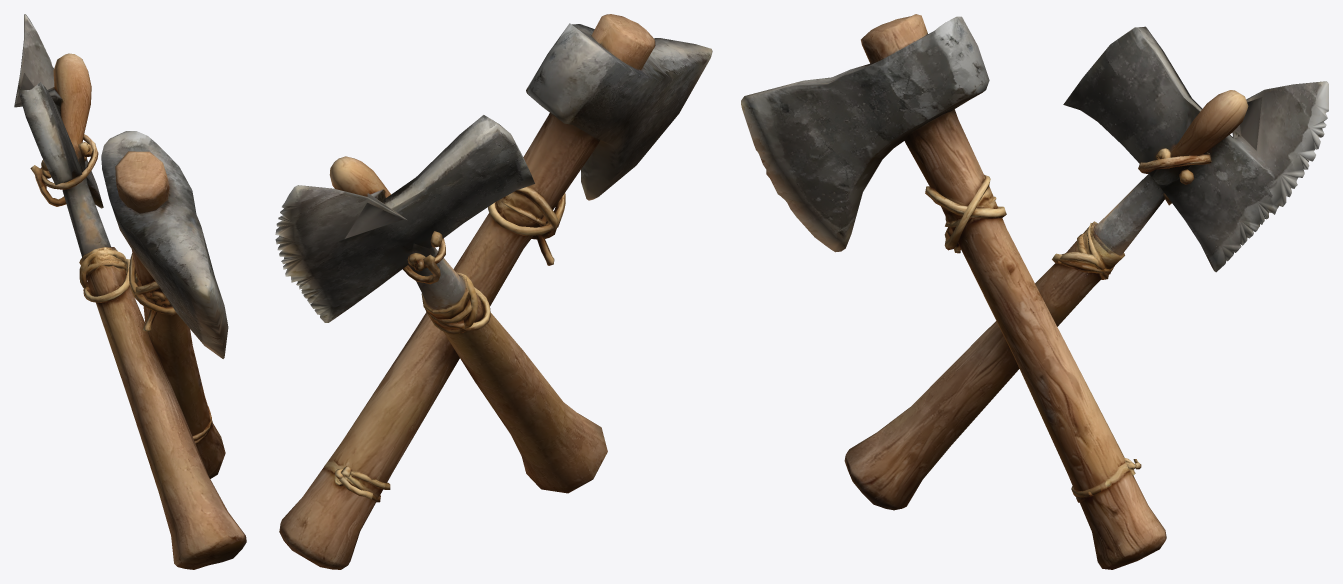
Rendered from tools-bois.glb.
3 renders of one model, left to right at view 1: azimuth 30°, elevation 25°; view 2: azimuth 150°, elevation 25°; view 3: azimuth 270°, elevation 25°, orthographic. The views are drawn at different scales.
Visible parts, largest first — view 1: tripo_node_743ffea1-1743-4a8c-9fe7-64b8ca63b3ea; view 2: tripo_node_743ffea1-1743-4a8c-9fe7-64b8ca63b3ea; view 3: tripo_node_743ffea1-1743-4a8c-9fe7-64b8ca63b3ea.
Boxes of the visible parts, <box> form: tripo_node_743ffea1-1743-4a8c-9fe7-64b8ca63b3ea: <box>14,14,246,569</box>; tripo_node_743ffea1-1743-4a8c-9fe7-64b8ca63b3ea: <box>275,14,712,569</box>; tripo_node_743ffea1-1743-4a8c-9fe7-64b8ca63b3ea: <box>741,14,1328,569</box>.
Size of the model in its own units: 0.4512 by 0.8926 by 0.998.
Materials: 1 (1 with a texture image).
